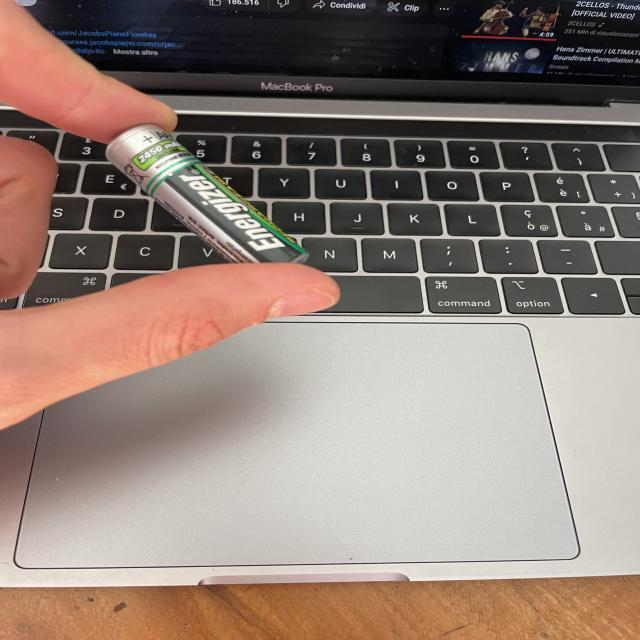Hazard: (106, 122, 309, 276)
